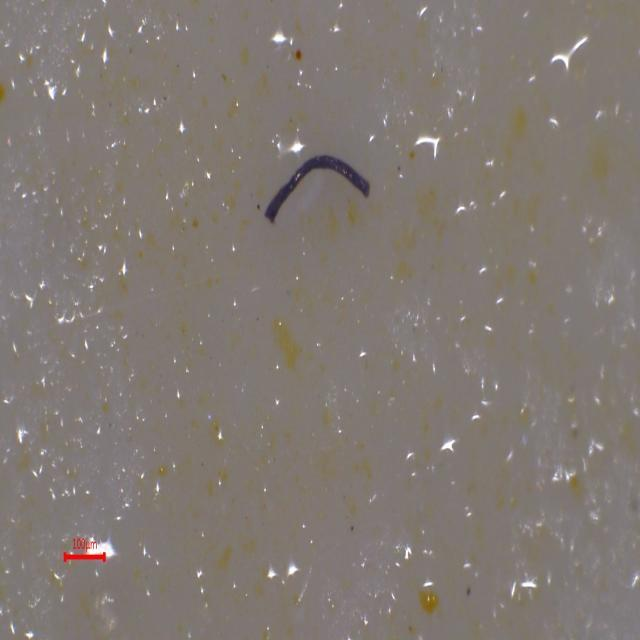Fibre: (259, 152, 375, 228)
